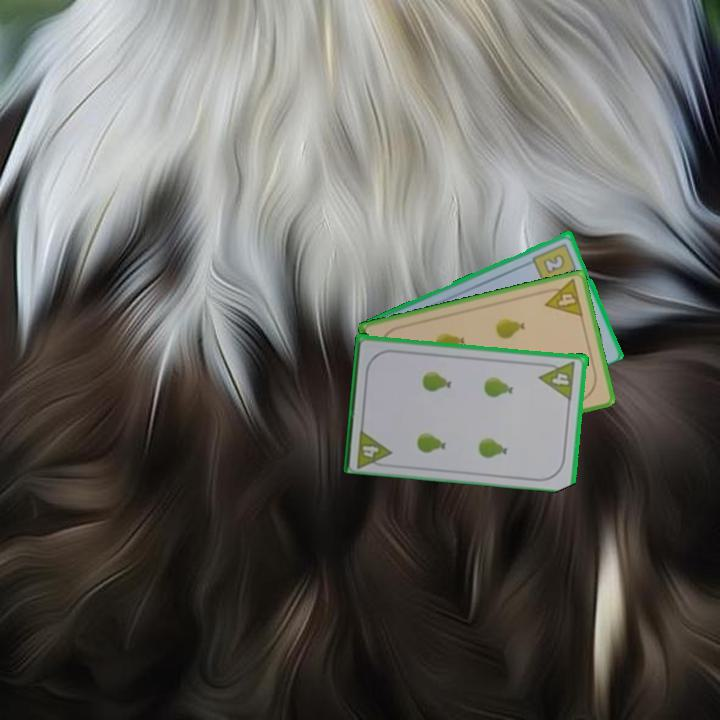2b: (529, 239, 580, 286)
4p: (539, 276, 586, 320), (353, 424, 395, 470), (537, 357, 578, 402)
